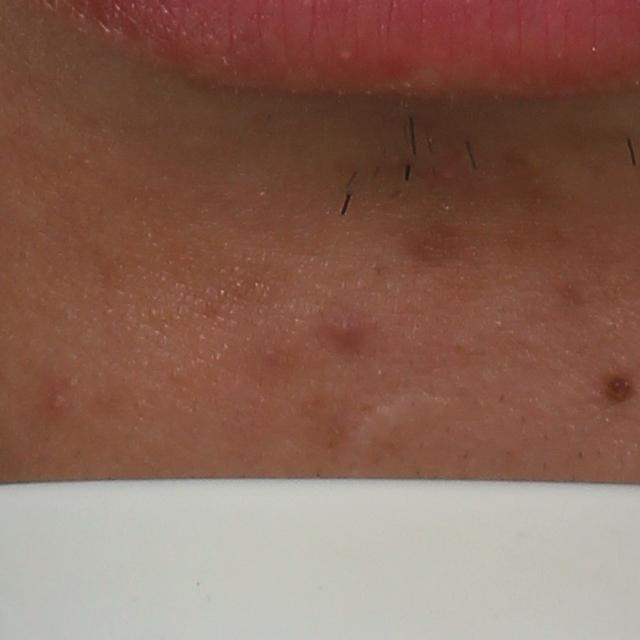hypertrophic_scar: (347, 388, 449, 471)
nevus: (602, 370, 639, 410)
papule: (317, 302, 368, 349)
